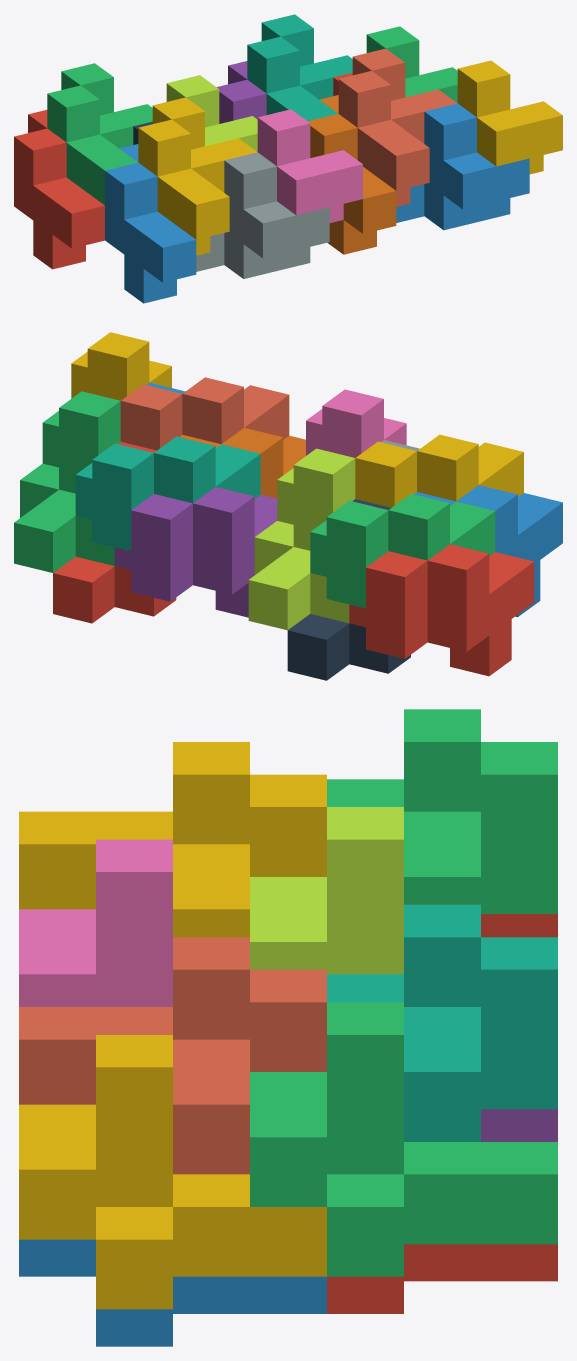
File: tiling.obj
3 renders of one model, top to bottom at view 1: azimuth 30°, elevation 25°; view 2: azimuth 150°, elevation 25°; view 3: azimuth 270°, elevation 25°, orthographic. The views are drawn at different scales.
Parts seen in each view (by area): view 1: copy_1_domain_8, copy_1_domain_4, copy_2_domain_6, copy_2_domain_2, copy_1_domain_1, copy_1_domain_2, copy_1_domain_3, copy_2_domain_4, copy_2_domain_8, copy_1_domain_7, copy_1_domain_6, copy_2_domain_3 (+2 smaller); view 2: copy_1_domain_1, copy_1_domain_5, copy_2_domain_3, copy_2_domain_7, copy_1_domain_7, copy_1_domain_3, copy_1_domain_8, copy_1_domain_4, copy_1_domain_2, copy_2_domain_1, copy_2_domain_5, copy_2_domain_8 (+2 smaller); view 3: copy_2_domain_7, copy_2_domain_8, copy_1_domain_8, copy_1_domain_7, copy_1_domain_4, copy_1_domain_3, copy_2_domain_4, copy_2_domain_3, copy_2_domain_6, copy_2_domain_5, copy_1_domain_5, copy_1_domain_1.
Boxes of the visible parts, bbox=[...] form: copy_1_domain_8: bbox=[338, 48, 457, 206]; copy_1_domain_4: bbox=[138, 97, 257, 255]; copy_2_domain_6: bbox=[396, 103, 529, 230]; copy_2_domain_2: bbox=[196, 152, 329, 278]; copy_1_domain_1: bbox=[14, 110, 104, 269]; copy_1_domain_2: bbox=[105, 144, 196, 303]; copy_1_domain_3: bbox=[47, 63, 152, 205]; copy_2_domain_4: bbox=[257, 109, 362, 222]; copy_2_domain_8: bbox=[457, 60, 562, 174]; copy_1_domain_7: bbox=[247, 14, 352, 121]; copy_1_domain_6: bbox=[308, 95, 396, 254]; copy_2_domain_3: bbox=[166, 75, 257, 151]; copy_1_domain_1: bbox=[349, 544, 534, 676]; copy_1_domain_5: bbox=[114, 487, 277, 617]; copy_2_domain_3: bbox=[248, 448, 355, 630]; copy_2_domain_7: bbox=[14, 391, 120, 572]; copy_1_domain_7: bbox=[75, 436, 260, 550]; copy_1_domain_3: bbox=[310, 493, 495, 608]; copy_1_domain_8: bbox=[120, 377, 289, 450]; copy_1_domain_4: bbox=[355, 434, 523, 507]; copy_1_domain_2: bbox=[414, 485, 562, 617]; copy_2_domain_1: bbox=[287, 499, 410, 680]; copy_2_domain_5: bbox=[53, 442, 176, 623]; copy_2_domain_8: bbox=[71, 332, 171, 400]; copy_2_domain_7: bbox=[250, 1002, 557, 1276]; copy_2_domain_8: bbox=[19, 1035, 326, 1309]; copy_1_domain_8: bbox=[19, 937, 326, 1174]; copy_1_domain_7: bbox=[327, 904, 557, 1141]; copy_1_domain_4: bbox=[19, 742, 326, 937]; copy_1_domain_3: bbox=[327, 709, 557, 913]; copy_2_domain_4: bbox=[19, 839, 172, 1006]; copy_2_domain_3: bbox=[250, 807, 403, 974]; copy_2_domain_6: bbox=[19, 1239, 326, 1346]; copy_2_domain_5: bbox=[327, 1244, 557, 1313]; copy_1_domain_5: bbox=[481, 1109, 557, 1141]; copy_1_domain_1: bbox=[481, 914, 557, 937].
Bounding box in the file's own units: 13 × 4 × 7.
